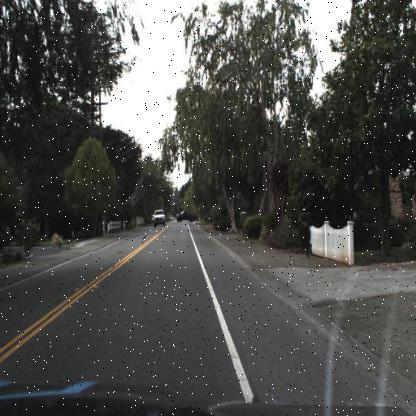car: (170, 204, 199, 224), (150, 206, 168, 226)
